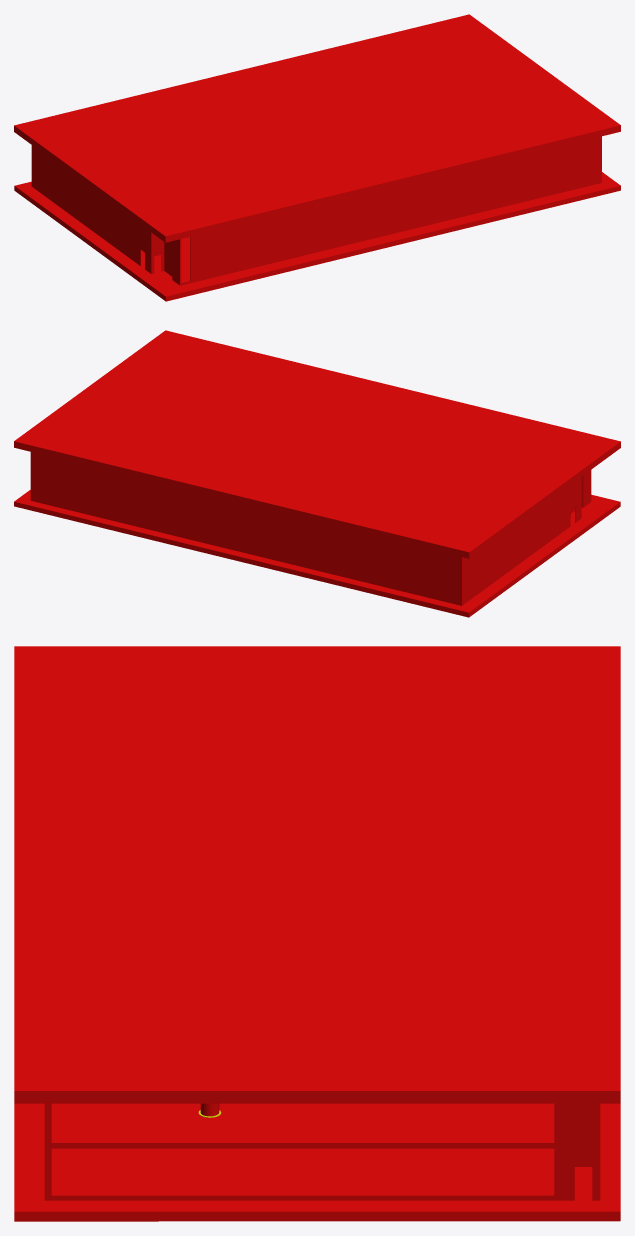
Rendered from procthor_environments_library_grp.fbx.
3 renders of one model, top to bottom at view 1: azimuth 30°, elevation 25°; view 2: azimuth 150°, elevation 25°; view 3: azimuth 270°, elevation 25°, orthographic. The views are drawn at different scales.
Visible parts, largest first — view 1: procthor_environment_library_ceiling, procthor_environment_library_walls, procthor_environment_library_floor; view 2: procthor_environment_library_ceiling, procthor_environment_library_walls, procthor_environment_library_floor; view 3: procthor_environment_library_ceiling, procthor_environment_library_floor, procthor_environment_library_walls.
Boxes of the visible parts, x1,y1,x2,y2 form: procthor_environment_library_ceiling: (14, 14, 620, 242); procthor_environment_library_walls: (31, 136, 601, 285); procthor_environment_library_floor: (14, 172, 620, 301); procthor_environment_library_ceiling: (14, 330, 620, 558); procthor_environment_library_walls: (30, 452, 591, 605); procthor_environment_library_floor: (14, 490, 620, 617); procthor_environment_library_ceiling: (14, 646, 620, 1103); procthor_environment_library_floor: (14, 1103, 620, 1221); procthor_environment_library_walls: (44, 1103, 600, 1200).
Bounding box in the file's own units: 5893 × 808 × 3396.
